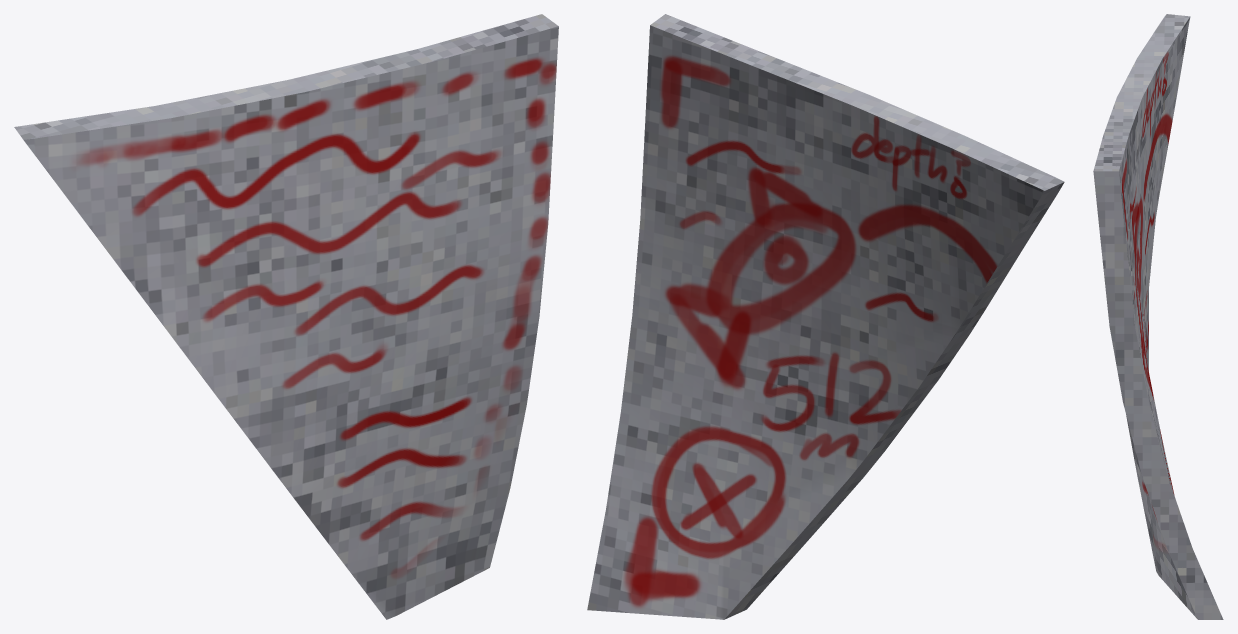
File: map1.fbx
3 views of the same model, side by side, from view 1: azimuth 30°, elevation 25°; view 2: azimuth 150°, elevation 25°; view 3: azimuth 270°, elevation 25° (orthographic). The views are drawn at different scales.
Visible parts, largest first — view 1: Cube.001; view 2: Cube.001; view 3: Cube.001.
Boxes of the visible parts, x1,y1,x2,y2 form: Cube.001: (14, 14, 558, 619); Cube.001: (587, 14, 1064, 619); Cube.001: (1093, 14, 1223, 619).
Size of the model in its own units: 359 by 417 by 110.
